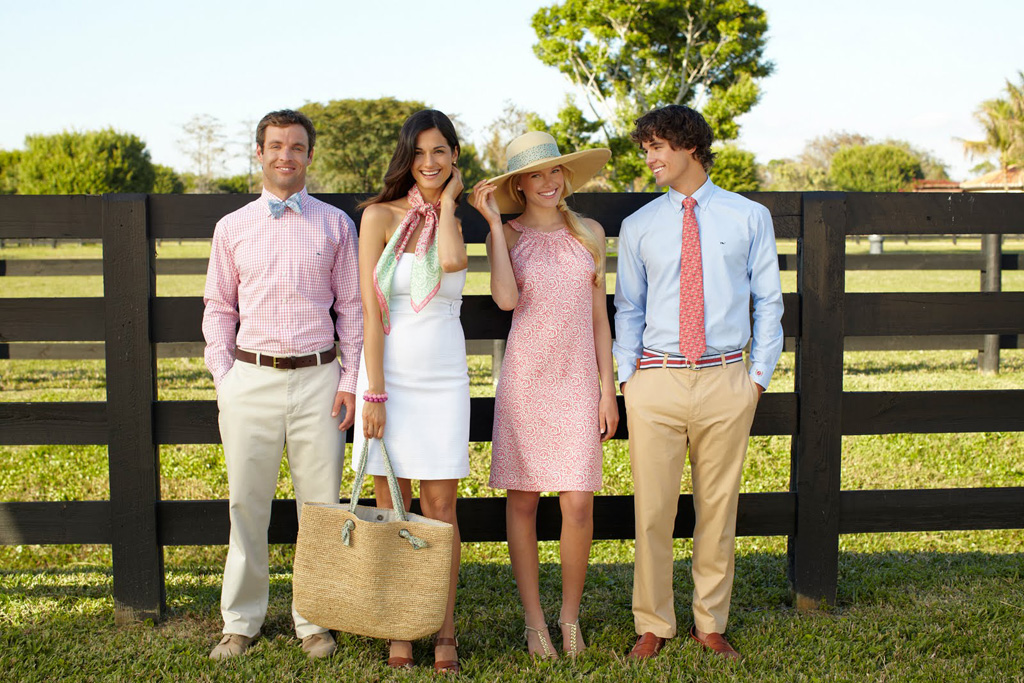Person: (618, 106, 783, 665), (201, 109, 360, 660), (469, 132, 619, 660), (361, 109, 469, 669)
